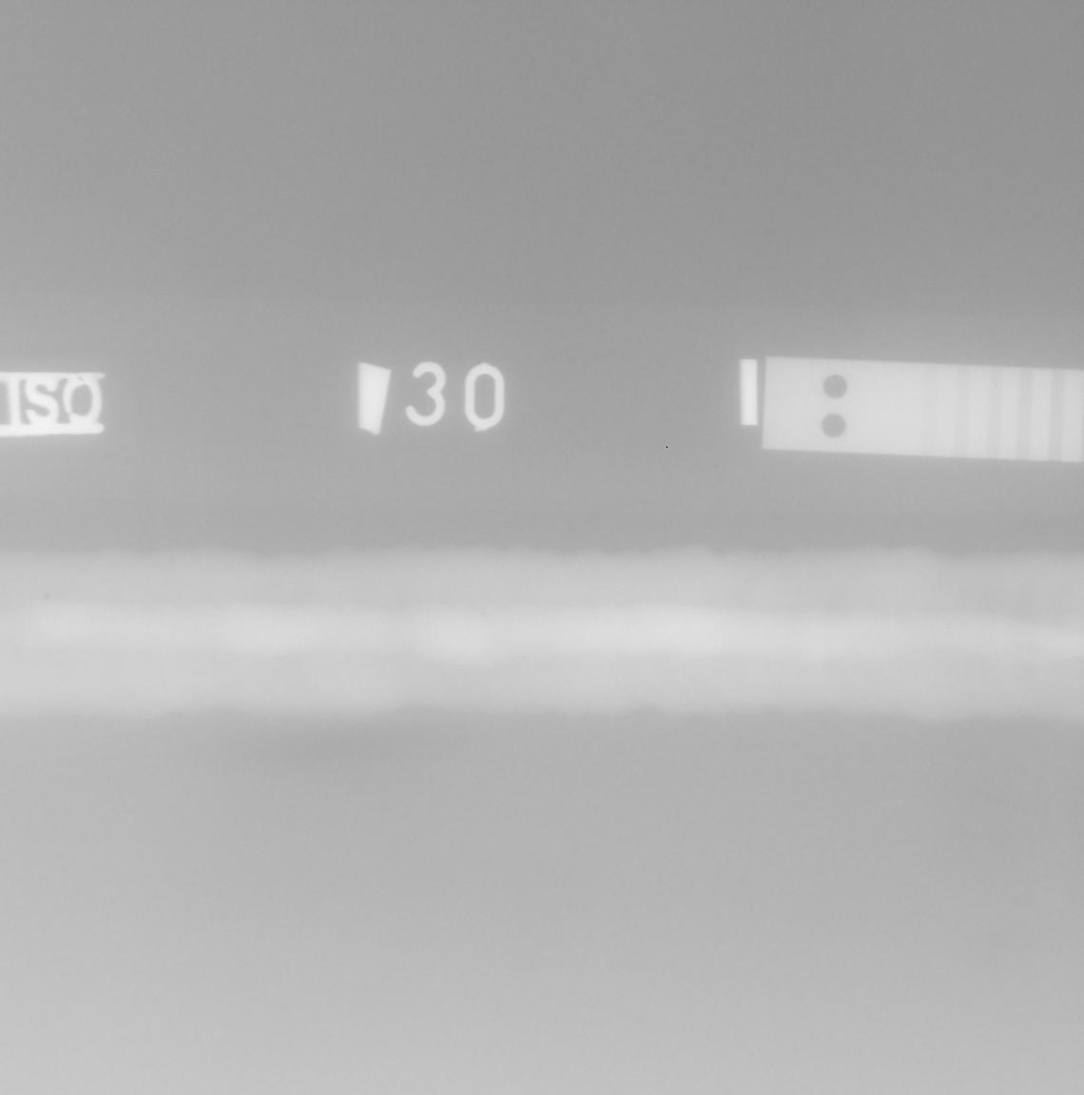Pore/Porosity: (43, 594, 50, 600)
